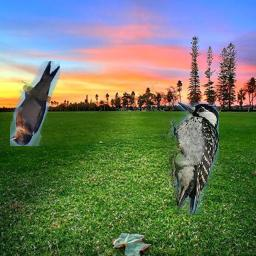Swallow: (10, 61, 60, 146)
Woodpecker: (158, 102, 219, 214)
